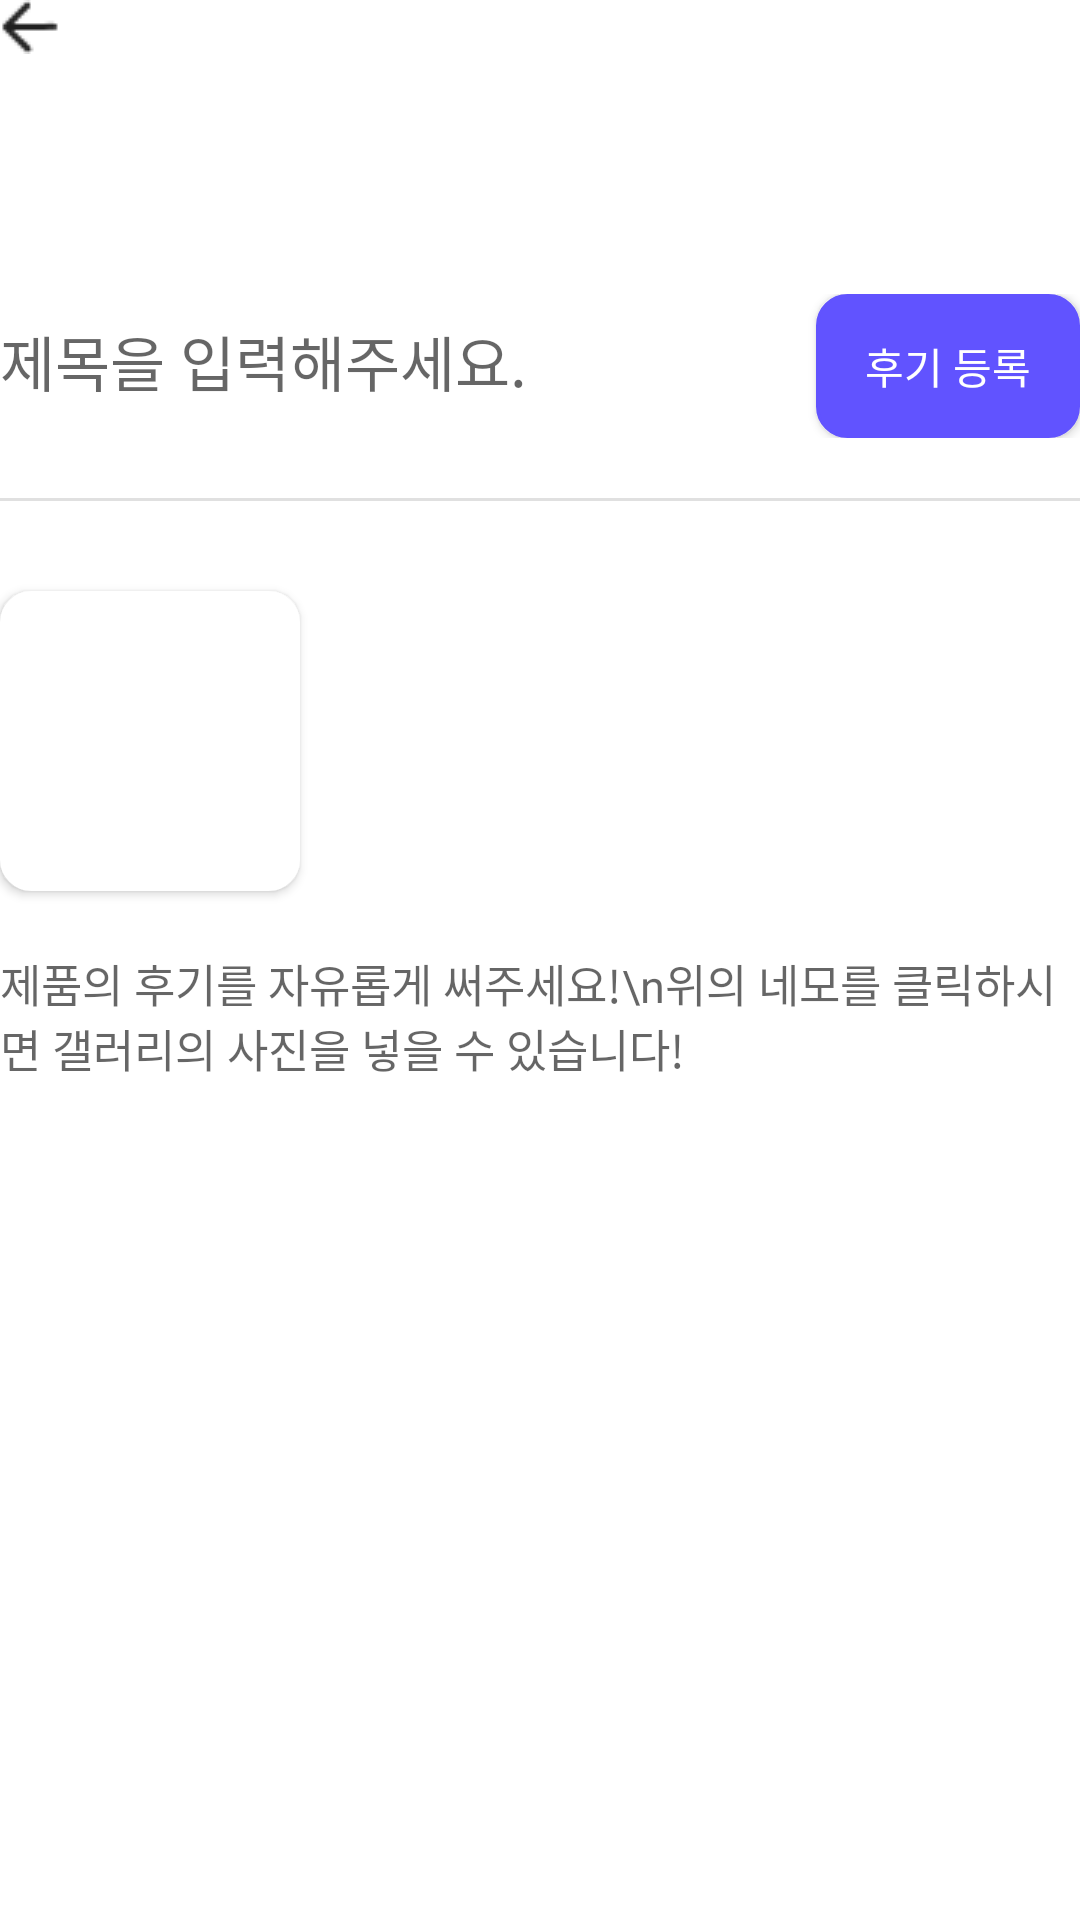

Where icons sit on this 1080px x 1920px app screen, as (x1, y1, x2, y2):
backward: (2, 0, 58, 54)
